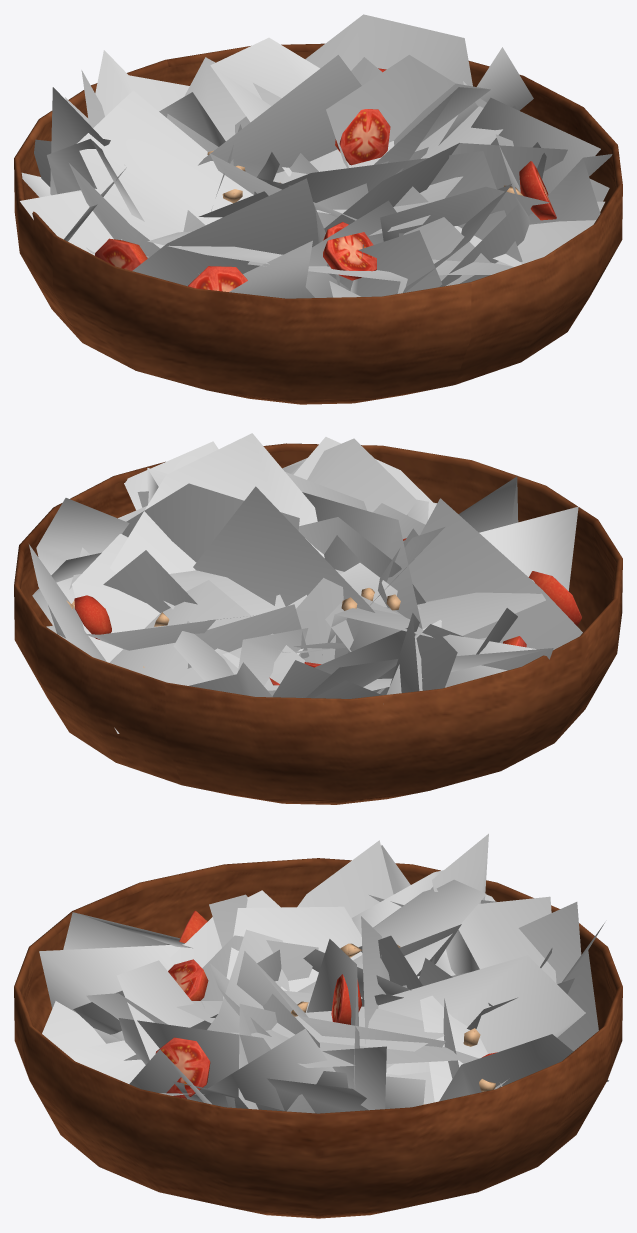
Rendered from Salad_A.fbx.
3 renders of one model, top to bottom at view 1: azimuth 30°, elevation 25°; view 2: azimuth 150°, elevation 25°; view 3: azimuth 270°, elevation 25°, orthographic.
Parts seen in each view (by area): view 1: Salad_A; view 2: Salad_A; view 3: Salad_A.
Boxes of the visible parts, left/top/right/bottom form: Salad_A: left=14, top=14, right=622, bottom=404; Salad_A: left=14, top=433, right=622, bottom=804; Salad_A: left=14, top=833, right=622, bottom=1218.
Size of the model in its own units: 0.2283 by 0.1059 by 0.2274.
